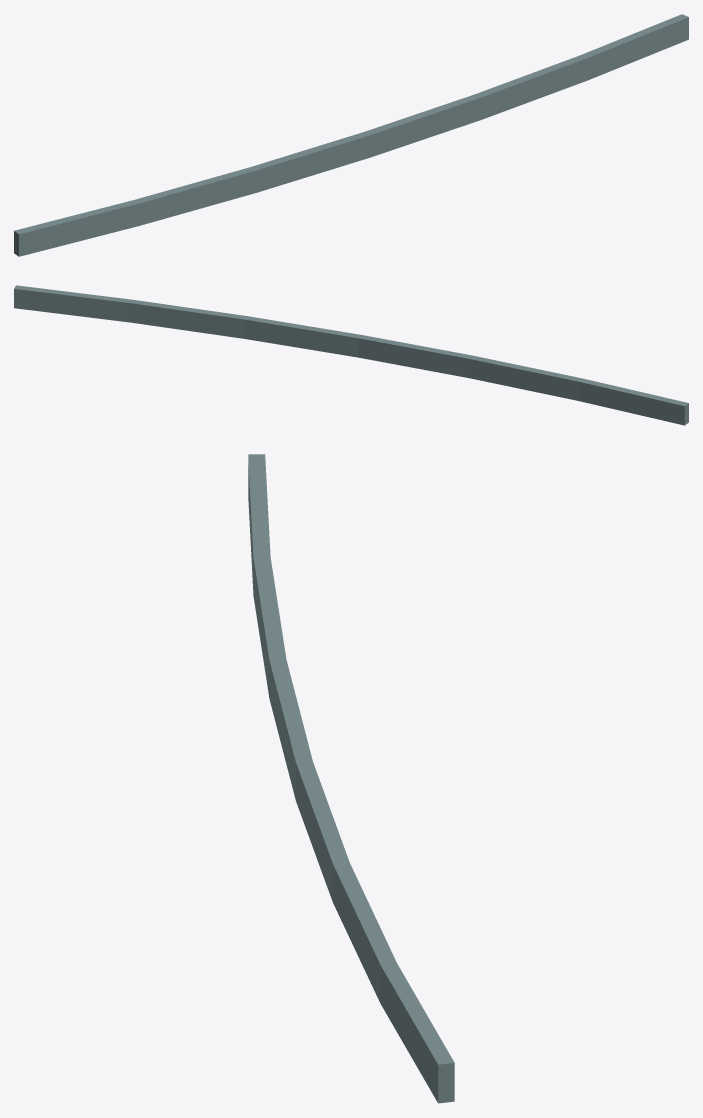
The model's file is RoadPlan_WalkCurve_2L_A15_R36_Curb_-1.glb.
The picture shows the model from 3 angles, top to bottom: view 1: azimuth 30°, elevation 25°; view 2: azimuth 150°, elevation 25°; view 3: azimuth 270°, elevation 25°; orthographic projection. The views are drawn at different scales.
Visible parts, largest first — view 1: RoadPlan_WalkCurve_2L_A15_R36_Curb_-1; view 2: RoadPlan_WalkCurve_2L_A15_R36_Curb_-1; view 3: RoadPlan_WalkCurve_2L_A15_R36_Curb_-1.
Part boxes in pixels (left/top/right/bottom): RoadPlan_WalkCurve_2L_A15_R36_Curb_-1: left=14, top=14, right=688, bottom=256; RoadPlan_WalkCurve_2L_A15_R36_Curb_-1: left=14, top=285, right=688, bottom=425; RoadPlan_WalkCurve_2L_A15_R36_Curb_-1: left=248, top=454, right=454, bottom=1103.
Size of the model in its own units: 10.13 by 0.3 by 1.45.
